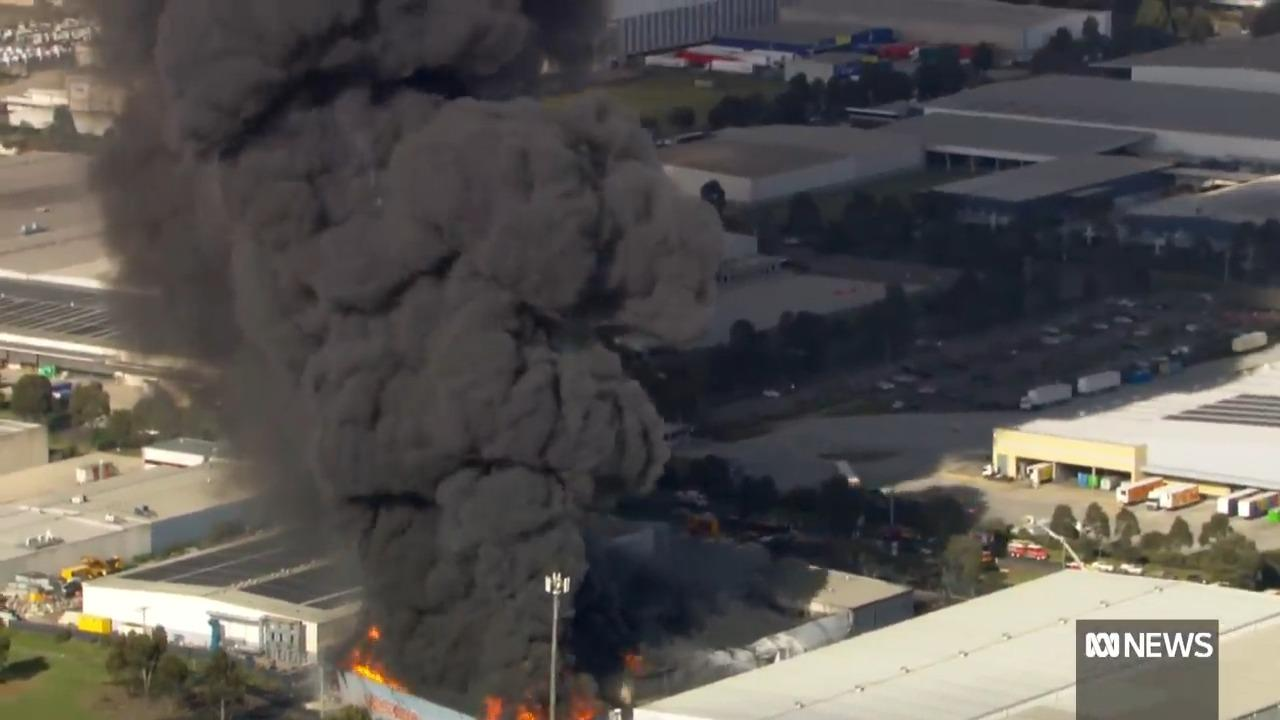fire: (474, 689, 628, 720), (341, 621, 405, 689)
